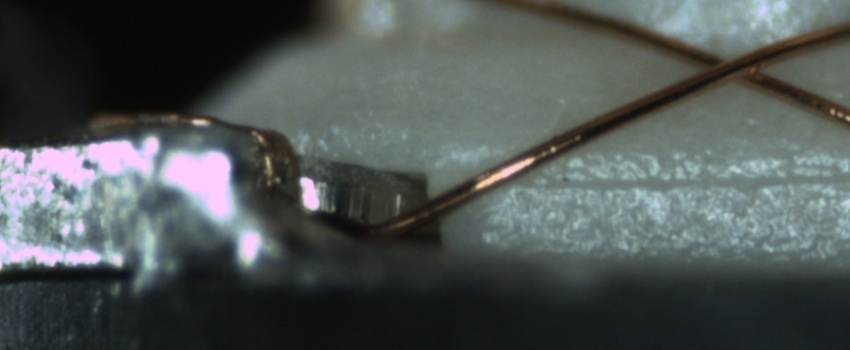CL: (689, 39, 782, 90)
DL: (509, 151, 849, 219)
TE: (79, 109, 304, 198)
